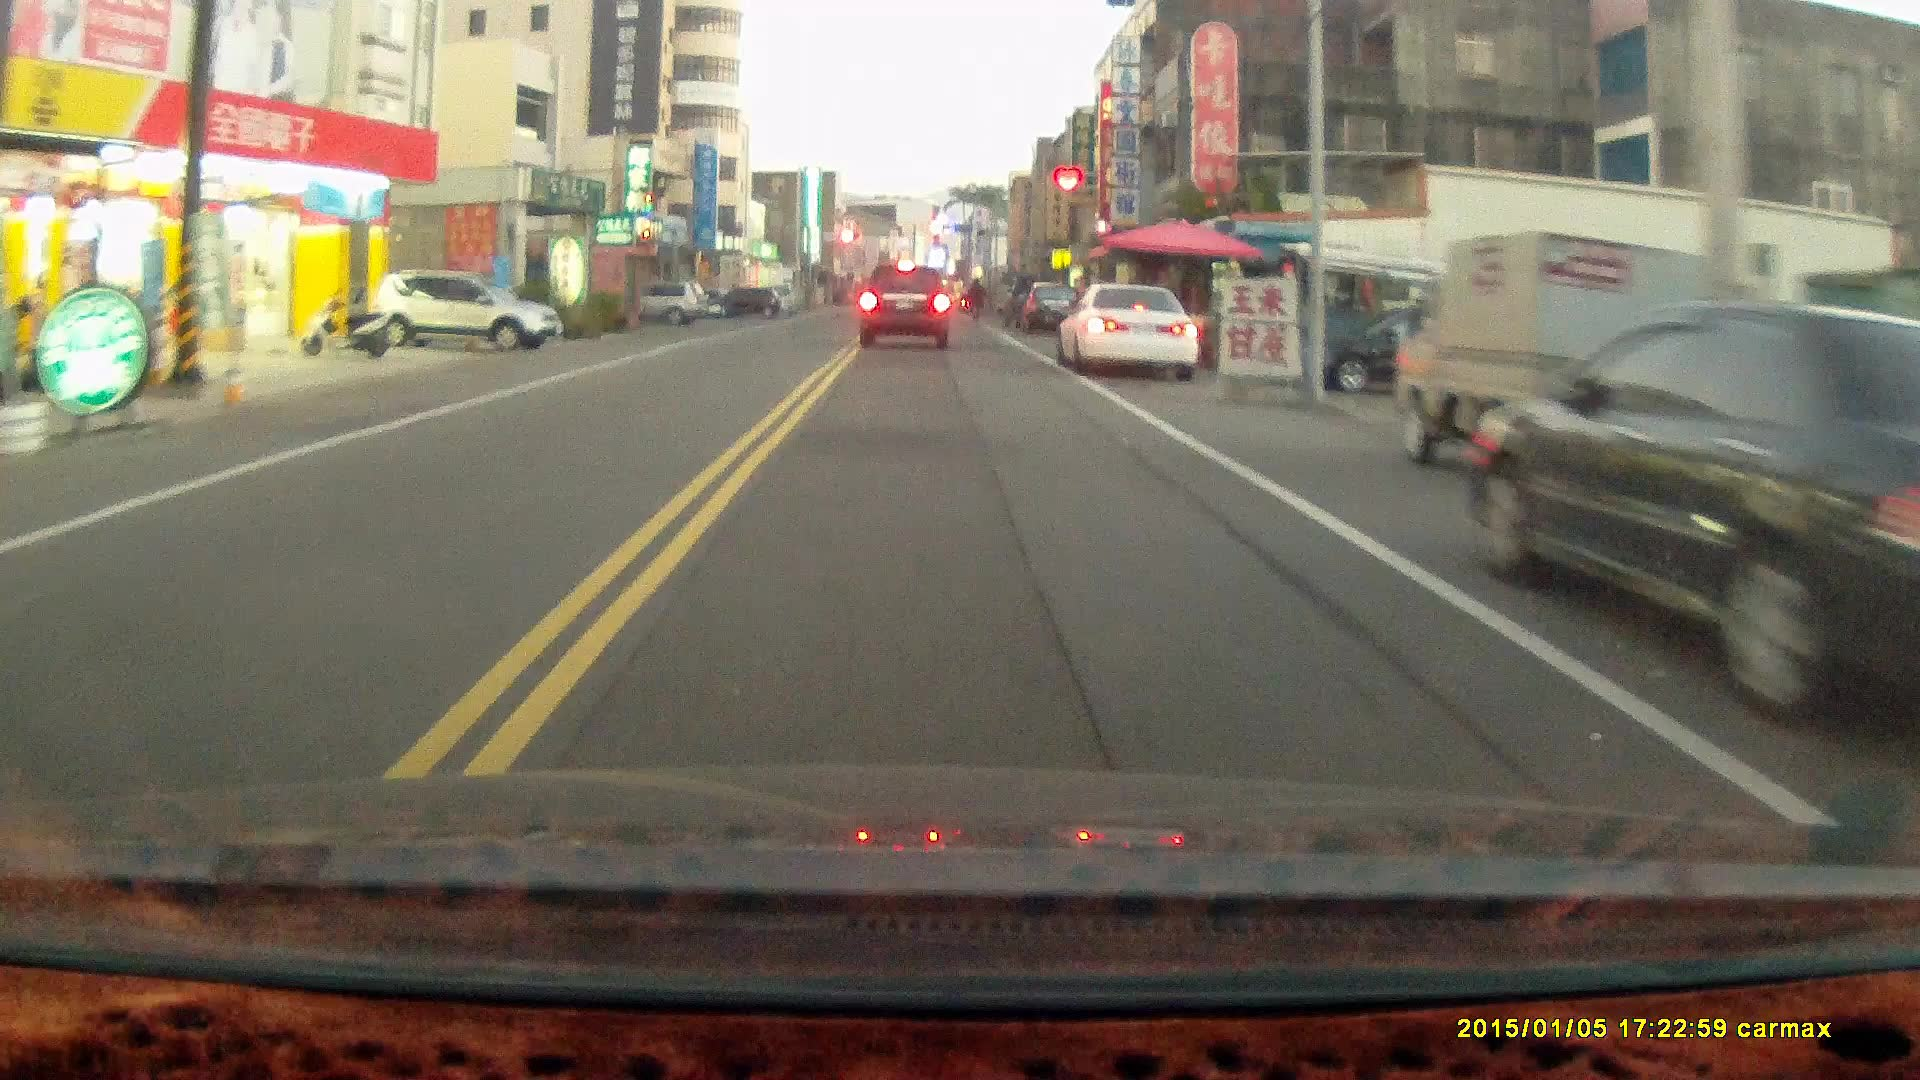vehicle: (1460, 302, 1920, 728), (1406, 240, 1717, 475), (1290, 302, 1553, 401), (363, 273, 556, 357), (1062, 280, 1201, 382), (856, 264, 953, 352)
